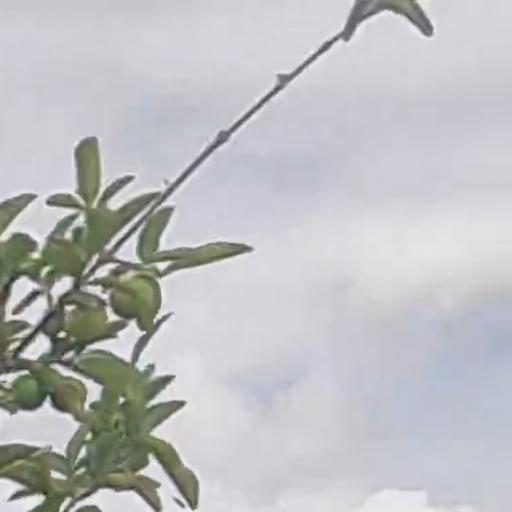acerola: (115, 286, 154, 318), (69, 311, 108, 338), (15, 376, 43, 408)
